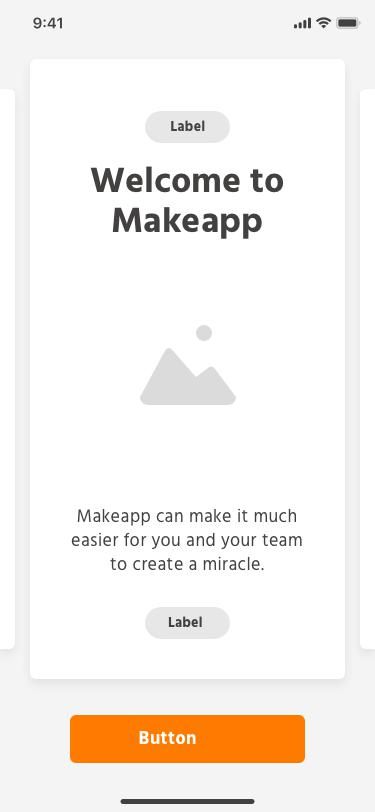Card: (29, 57, 348, 682)
Image: (139, 325, 237, 406)
Text: (71, 509, 303, 572), (89, 167, 284, 240)
TextButton: (70, 715, 306, 764), (145, 606, 231, 640), (145, 111, 231, 144)
UpperTaskBar: (34, 16, 362, 30)
